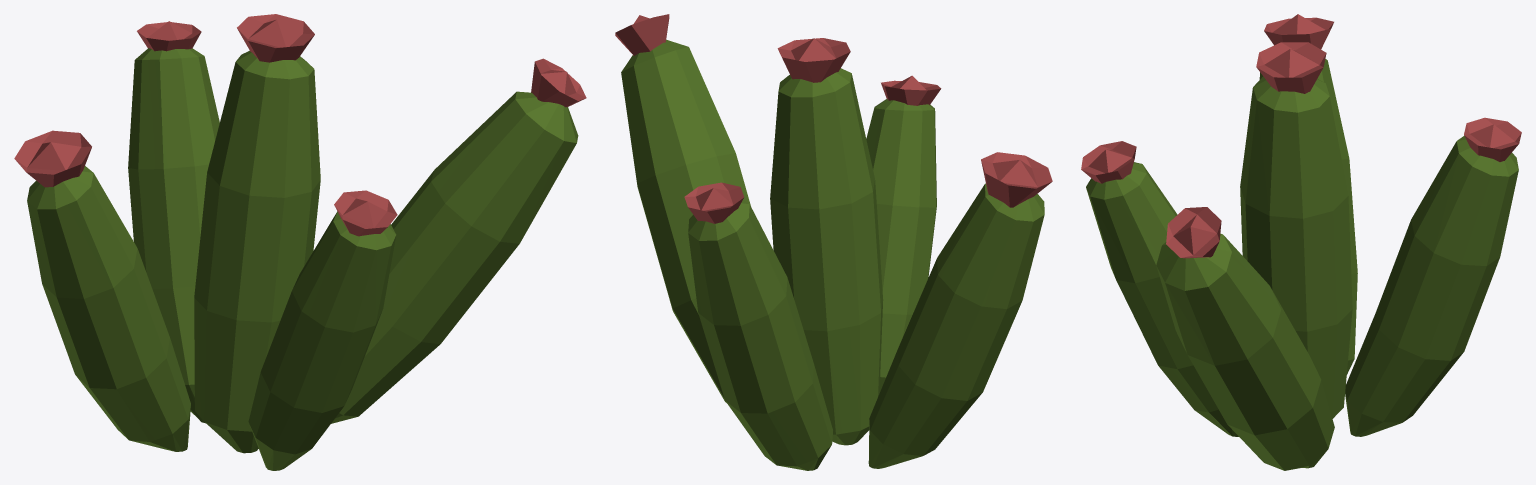
The model's file is Desert_plant_014.glb.
3 renders of one model, left to right at view 1: azimuth 30°, elevation 25°; view 2: azimuth 150°, elevation 25°; view 3: azimuth 270°, elevation 25°, orthographic. The views are drawn at different scales.
Visible parts, largest first — view 1: Desert_plant_014; view 2: Desert_plant_014; view 3: Desert_plant_014.
Boxes of the visible parts, box(x1,y1,x2,y2) form: Desert_plant_014: box(14, 14, 586, 470); Desert_plant_014: box(615, 14, 1052, 470); Desert_plant_014: box(1081, 14, 1521, 470).
Size of the model in its own units: 0.6899 by 0.5438 by 0.5461.
1 material, 1 textured.
